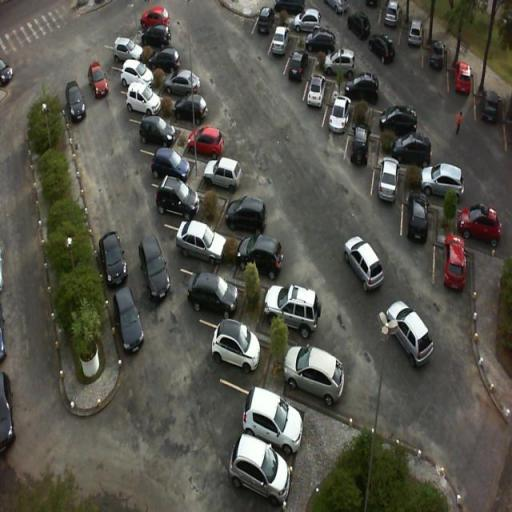Illegal-parking: (103, 283, 156, 367), (85, 218, 137, 290)
Slot-occupied: (218, 373, 310, 456), (195, 310, 269, 391), (172, 258, 252, 328), (277, 336, 358, 405), (255, 281, 331, 338), (430, 223, 482, 297), (147, 172, 210, 226), (397, 184, 441, 259), (164, 220, 224, 274), (230, 234, 292, 281), (370, 151, 406, 230), (138, 145, 199, 189), (299, 69, 333, 127), (342, 130, 380, 181), (321, 94, 352, 148), (284, 44, 311, 94), (268, 26, 292, 66)
